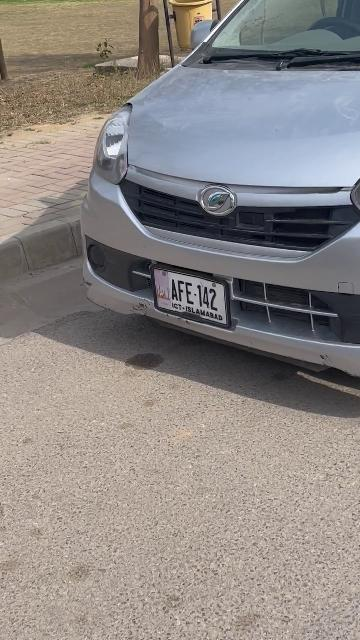plate: (151, 265, 231, 330)
